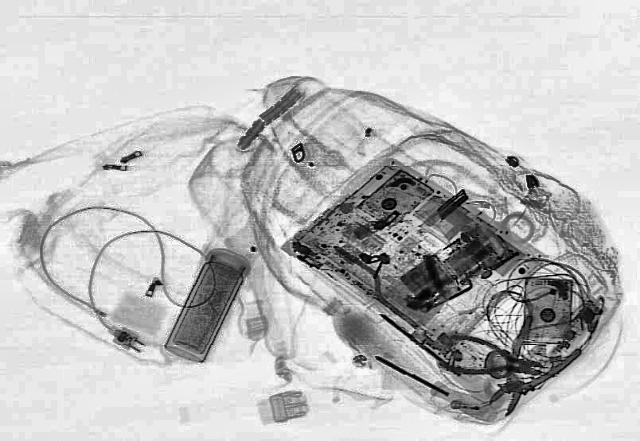Pliers: (462, 315, 596, 423), (432, 332, 552, 388)
